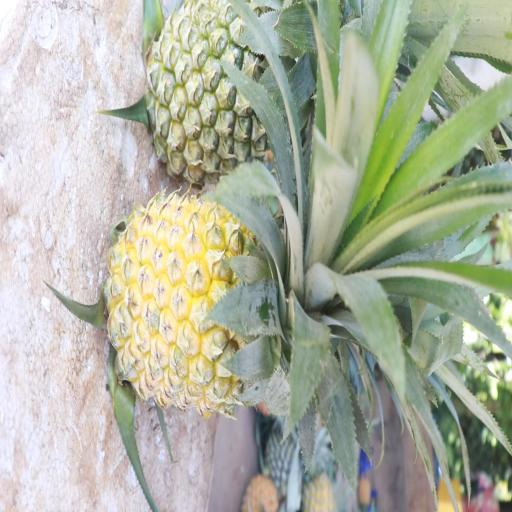------------------------------: (146, 0, 338, 180)
Pineapple - v8 v1: (109, 190, 333, 404)
